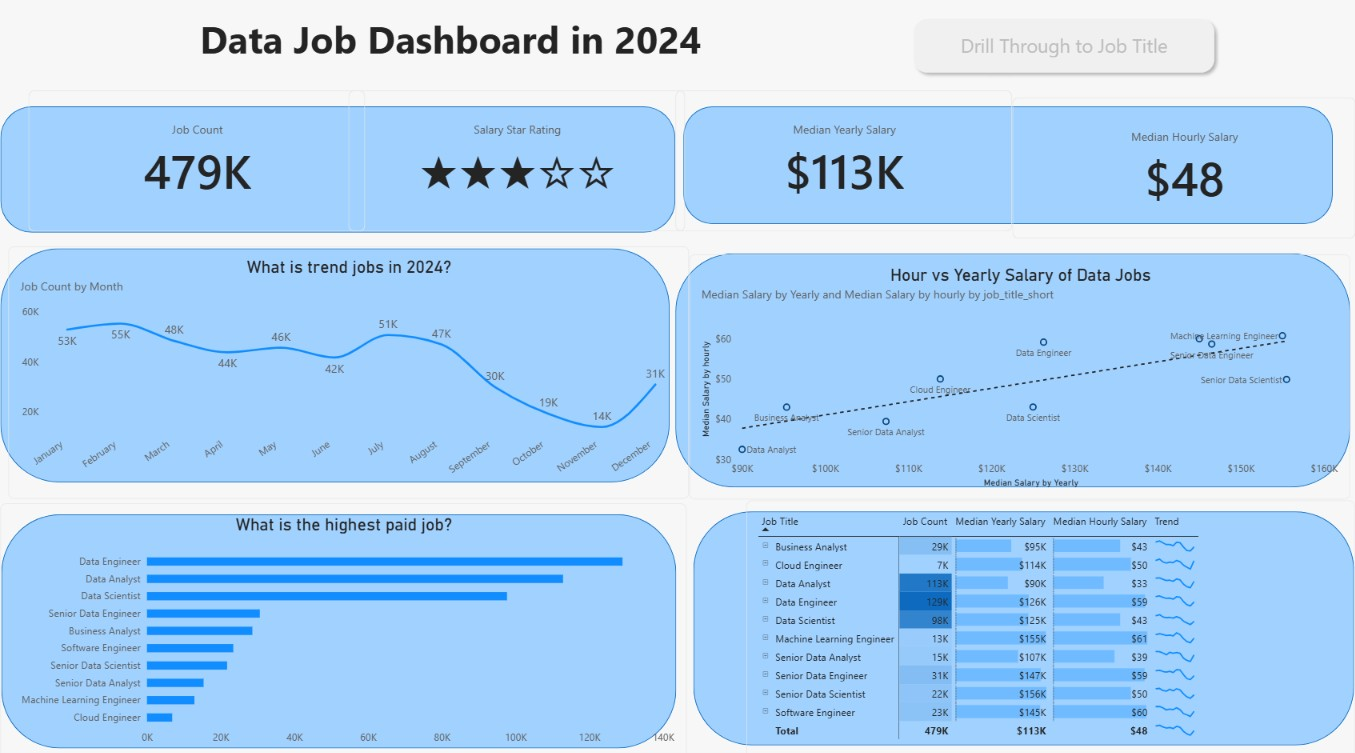

The page's visual inventory and layout, read from the dashboard file:
{"tool":"powerbi","page":{"name":"Data Jobs Dashboard","canvas":[1920,1080],"ordinal":9},"visuals":[{"type":"shape","box":[10,734,952,330],"z":0},{"type":"shape","box":[8,158,952,178],"z":1000},{"type":"shape","box":[960,366,952,330],"z":2000},{"type":"shape","box":[972,734,932,330],"z":3000},{"type":"shape","box":[972,158,916,166],"z":4000},{"type":"shape","box":[8,358,944,330],"z":5000},{"type":"textbox","box":[0,25.4,1287.2,132.1],"z":6000},{"type":"cardVisual","fields":{"Data":["Median(job_postings_flat.salary_year_avg)"]},"box":[960,136,475.9,199.9],"z":7000},{"type":"cardVisual","fields":{"Data":["Median(job_postings_flat.salary_hour_avg)"]},"box":[1436,146,484.4,199.9],"z":8000},{"type":"cardVisual","fields":{"Data":["job_postings_flat.Salary Star Rating"]},"box":[500,136,475.9,199.9],"z":9000},{"type":"cardVisual","fields":{"Data":["CountNonNull(job_postings_flat.job_title)"]},"box":[48,136,475.9,199.9],"z":10000},{"type":"lineChart","title":"What is trend jobs in 2024?","fields":{"Category":["job_postings_flat.job_posted_date.Variation.Date Hierarchy.Year","job_postings_flat.job_posted_date.Variation.Date Hierarchy.Quarter","job_postings_flat.job_posted_date.Variation.Date Hierarchy.Month","job_postings_flat.job_posted_date.Variation.Date Hierarchy.Day"],"Y":["CountNonNull(job_postings_flat.job_title_short)"]},"box":[20.3,355.7,960,356],"z":11000},{"type":"scatterChart","title":"Hour vs Yearly Salary of Data Jobs","fields":{"Series":["job_postings_flat.job_title_short"],"X":["Median(job_postings_flat.salary_year_avg)"],"Y":["Median(job_postings_flat.salary_hour_avg)"]},"box":[962,352,950,362],"z":12000},{"type":"barChart","title":"What is the highest paid job?","fields":{"Category":["job_postings_flat.job_title_short"],"Y":["CountNonNull(job_postings_flat.job_title)"]},"box":[8,718,968,362],"z":13000},{"type":"pivotTable","fields":{"Rows":["job_postings_flat.job_title_short","job_postings_flat.job_posted_date.Variation.Date Hierarchy.Quarter"],"Values":["CountNonNull(job_postings_flat.job_title_short)","Median(job_postings_flat.salary_year_avg)","Median(job_postings_flat.salary_hour_avg)","SparklineData(CountNonNull(job_postings_flat.job_title_short)_[job_postings_flat.job_posted_date.Variation.Date Hierarch"]},"box":[1062,714,858,366],"z":14000},{"type":"actionButton","title":"Drill Through to Job Title","box":[1288,26,442,94],"z":15000}]}

Visuals, with their boxes in screenshot pixels (x1, y1, x2, y2), scaled from the page's 1920x1080 canvas onto the 1355x753 screenshot:
shape: (left=7, top=512, right=679, bottom=742)
shape: (left=6, top=110, right=678, bottom=234)
shape: (left=678, top=255, right=1349, bottom=485)
shape: (left=686, top=512, right=1344, bottom=742)
shape: (left=686, top=110, right=1332, bottom=226)
shape: (left=6, top=250, right=672, bottom=480)
textbox: (left=0, top=18, right=908, bottom=110)
cardVisual - Median(job_postings_flat.salary_year_avg): (left=678, top=95, right=1013, bottom=234)
cardVisual - Median(job_postings_flat.salary_hour_avg): (left=1013, top=102, right=1354, bottom=241)
cardVisual - job_postings_flat.Salary Star Rating: (left=353, top=95, right=689, bottom=234)
cardVisual - CountNonNull(job_postings_flat.job_title): (left=34, top=95, right=370, bottom=234)
"What is trend jobs in 2024?" lineChart: (left=14, top=248, right=692, bottom=496)
"Hour vs Yearly Salary of Data Jobs" scatterChart: (left=679, top=245, right=1349, bottom=498)
"What is the highest paid job?" barChart: (left=6, top=501, right=689, bottom=752)
pivotTable - job_postings_flat.job_title_short x job_postings_flat.job_posted_date.Variation.Date Hierarchy.Quarter: (left=749, top=498, right=1354, bottom=752)
"Drill Through to Job Title" actionButton: (left=909, top=18, right=1221, bottom=84)
